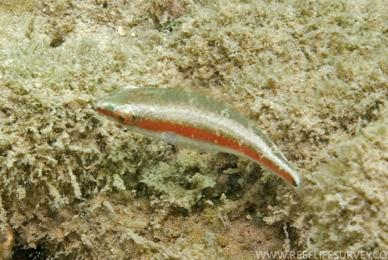Scaridae -Parrotfishes-: (91, 73, 304, 205)
